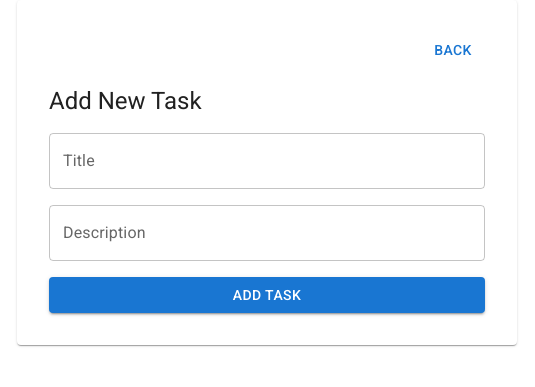
TaskForm › clears title error on input change
The width and height of the screenshot is (535, 387).
Click the button "Add Task" at (267, 295), box 49,276 -> 485,313
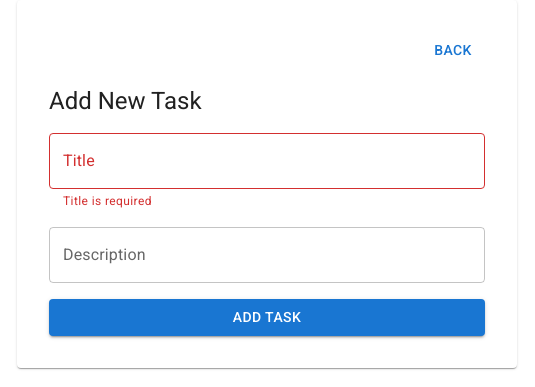
Result: the text "Title is required" is shown at 63,194 -> 152,208
Type "Fix coverage" into the field labelled "Title" at (267, 160), box 49,132 -> 485,188
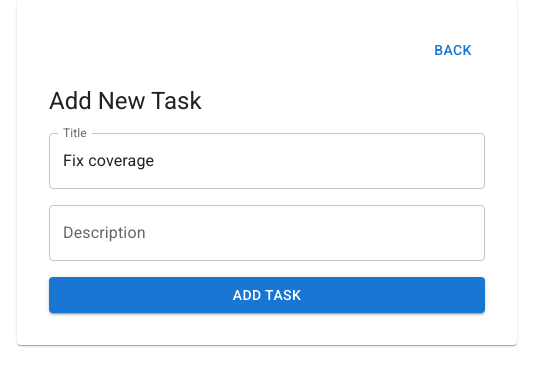
Result: the text "Title is required" is gone
